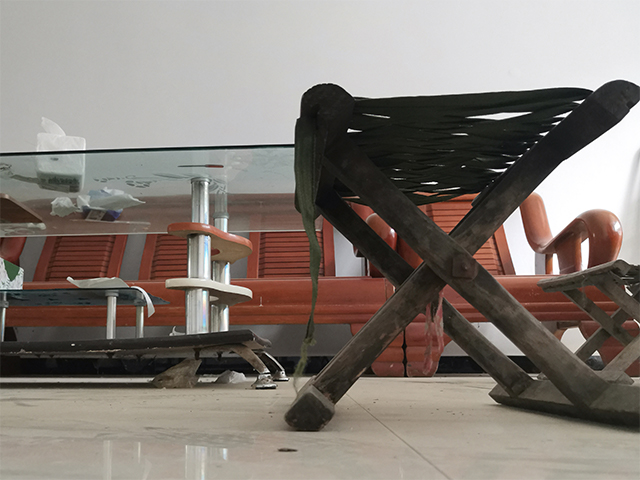stool: (282, 78, 640, 432), (536, 258, 640, 386)
table: (1, 142, 324, 391)
